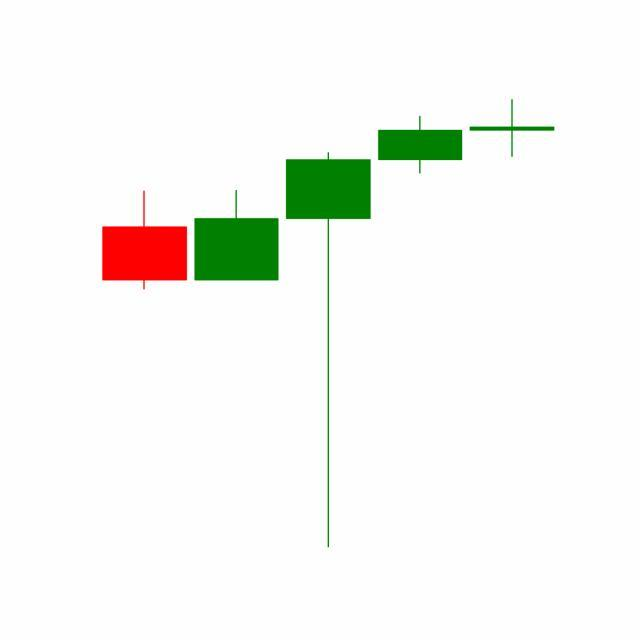Spinning Top: (466, 99, 559, 159)
